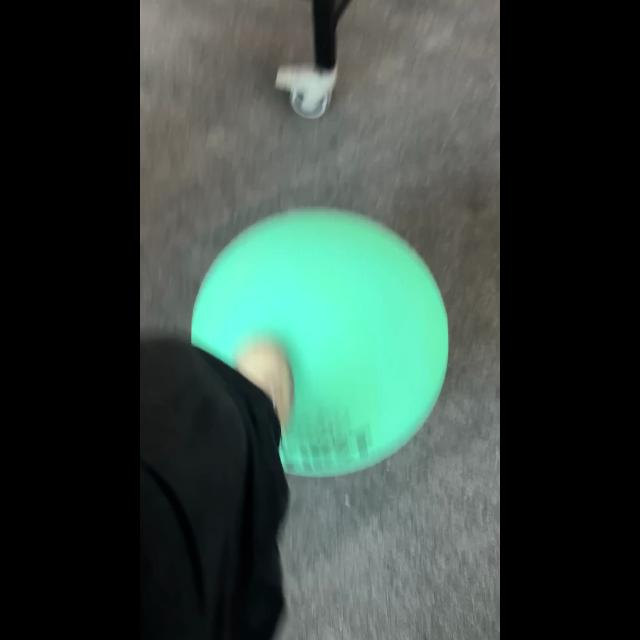ALGAE: (190, 206, 450, 478)
